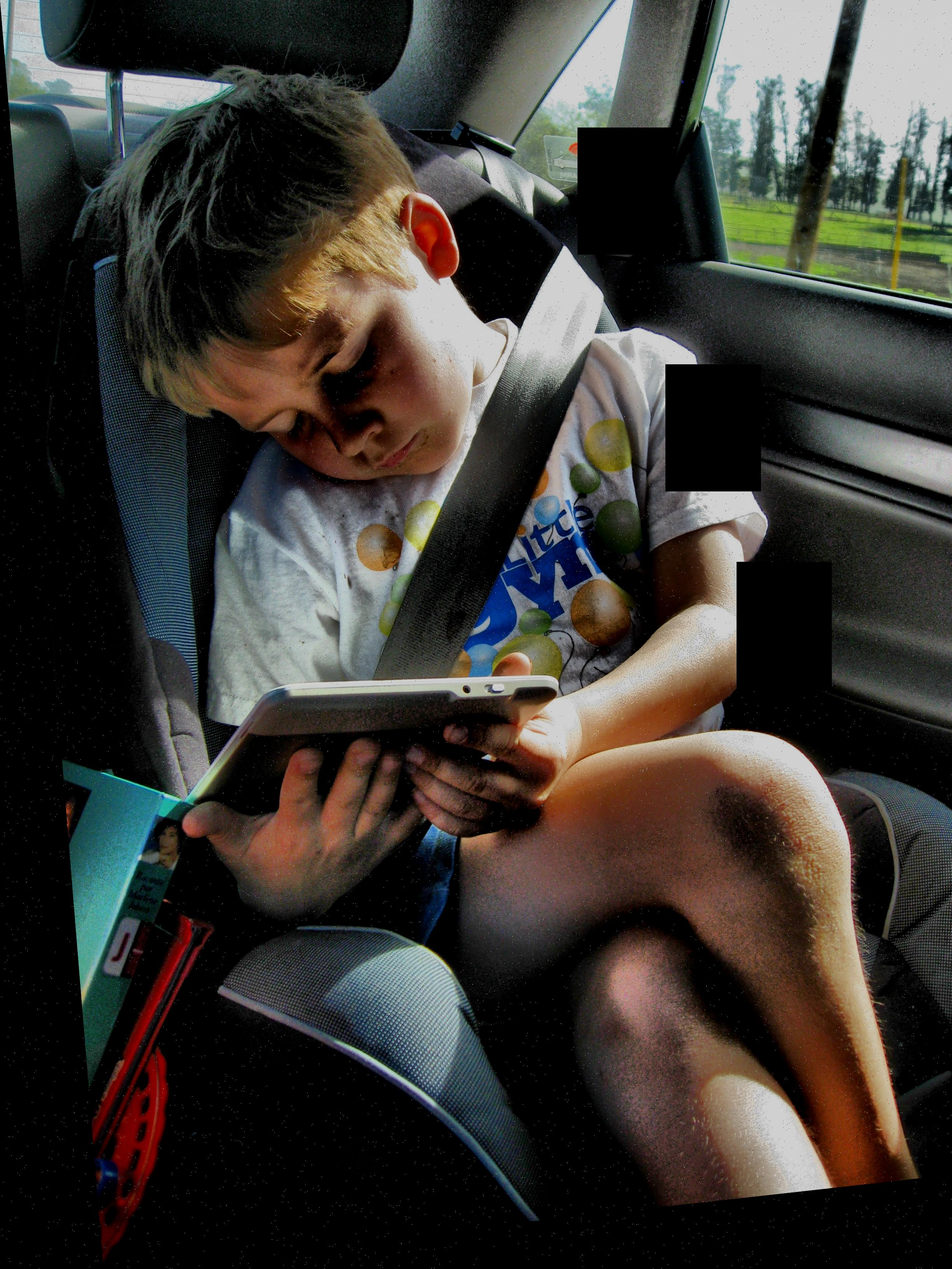seatbelt: (334, 223, 642, 687)
